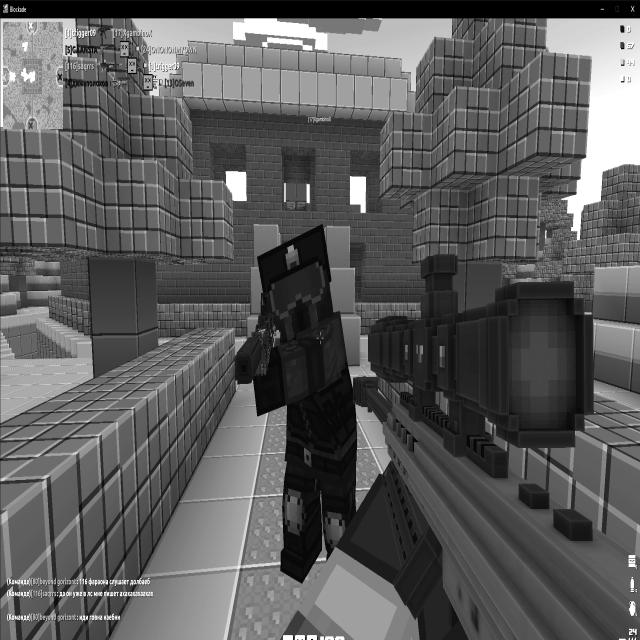Head: (254, 229, 338, 337)
Player: (240, 223, 358, 583)
